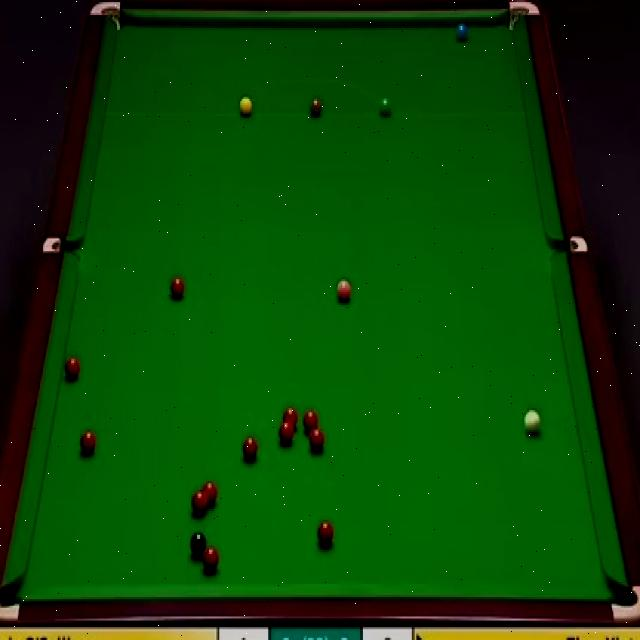black-ball: (189, 533, 207, 557)
blue-ball: (456, 22, 469, 45)
brown-ball: (308, 96, 322, 117)
green-ball: (378, 97, 392, 117)
pink-ball: (336, 281, 352, 305)
red-ball: (309, 425, 326, 456), (64, 357, 81, 385), (317, 520, 334, 548), (192, 492, 210, 518), (81, 428, 97, 455), (201, 546, 219, 570), (242, 434, 258, 460), (279, 423, 296, 446), (202, 482, 218, 505), (282, 406, 298, 428), (304, 410, 318, 432), (170, 279, 185, 298)
white-ball: (522, 408, 542, 438)
yellow-ball: (238, 96, 253, 117)
